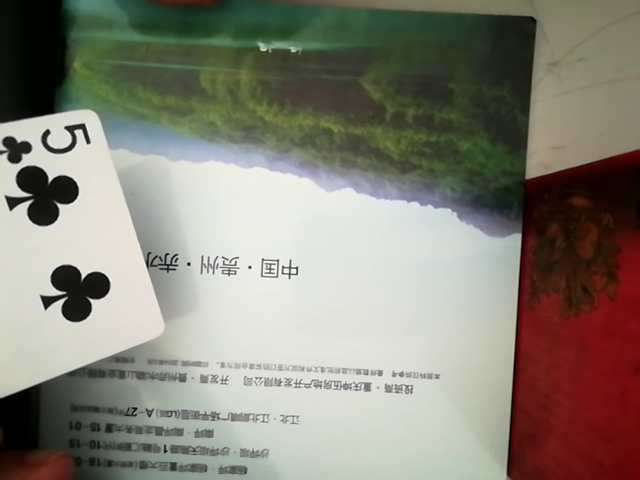mh 5: (0, 95, 156, 432)
